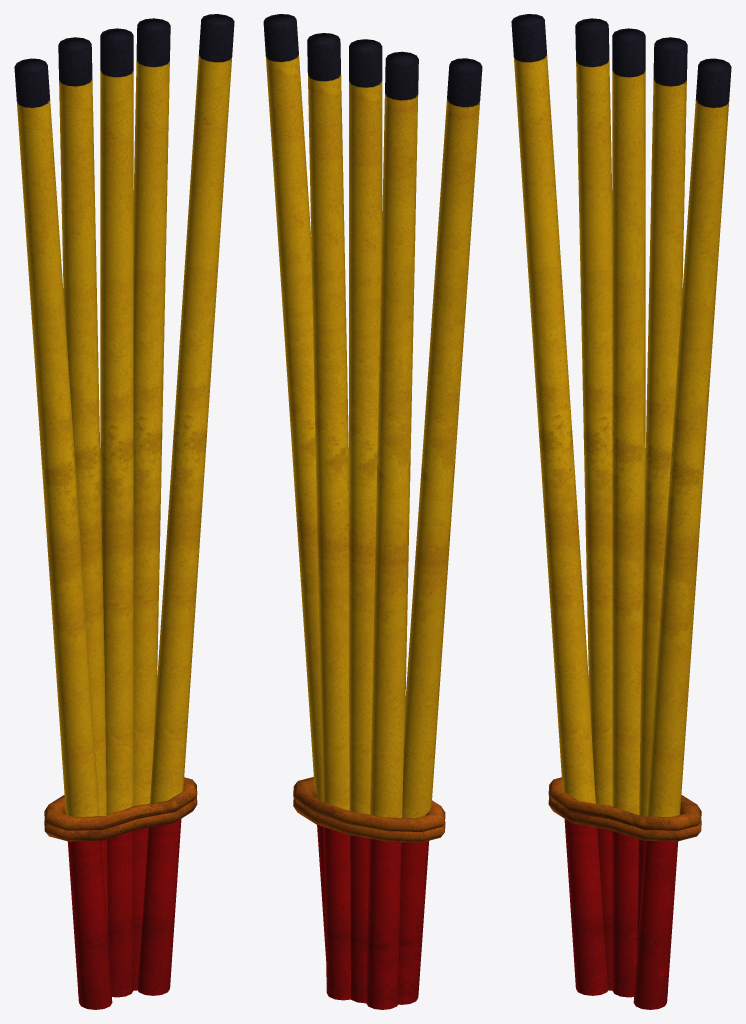
File: Incense.fbx
The picture shows the model from 3 angles, left to right: view 1: azimuth 30°, elevation 25°; view 2: azimuth 150°, elevation 25°; view 3: azimuth 330°, elevation 25°; orthographic projection.
Visible parts, largest first — view 1: Incense; view 2: Incense; view 3: Incense.
Boxes of the visible parts, <box> form: Incense: <box>14,14,234,1009</box>; Incense: <box>263,14,482,1009</box>; Incense: <box>511,14,731,1009</box>.
Size of the model in its own units: 5.98 by 25.3 by 1.93.
Materials: 1 (1 with a texture image).
